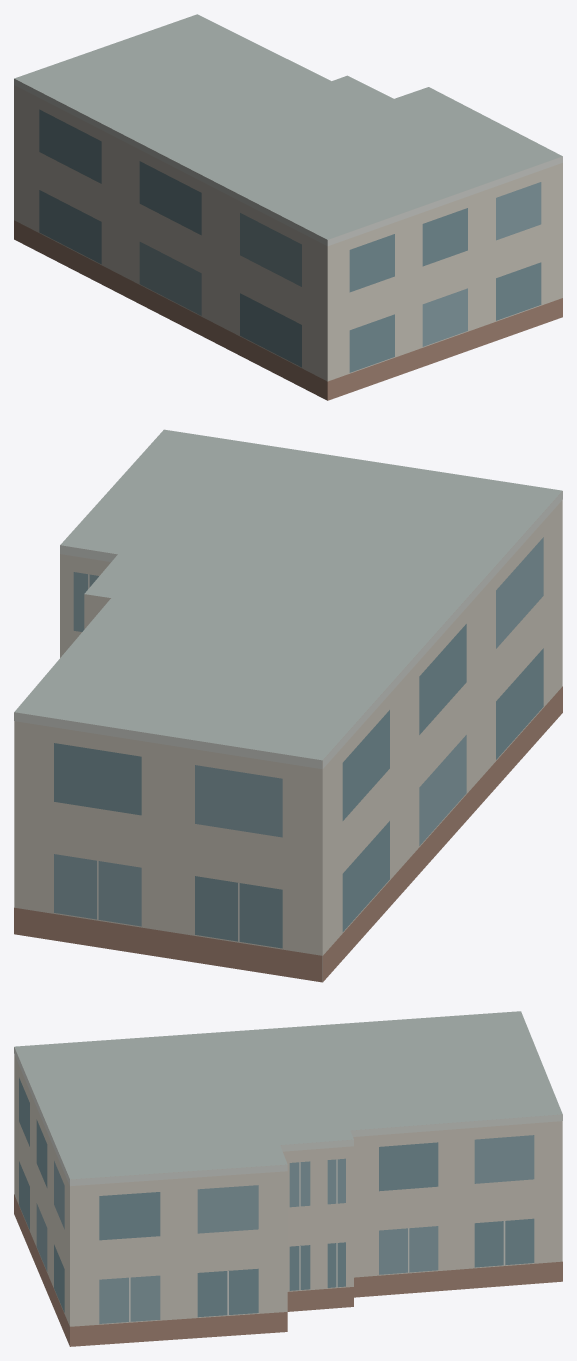
The model's file is survey-upis-32879587.glb.
3 views of the same model, one above another, from view 1: azimuth 30°, elevation 25°; view 2: azimuth 150°, elevation 25°; view 3: azimuth 270°, elevation 25° (orthographic). The views are drawn at different scales.
Parts seen in each view (by area): view 1: survey-upis-32879587.tmp; view 2: survey-upis-32879587.tmp; view 3: survey-upis-32879587.tmp.
Boxes of the visible parts, x1,y1,x2,y2 form: survey-upis-32879587.tmp: (14, 14, 562, 400); survey-upis-32879587.tmp: (14, 429, 562, 982); survey-upis-32879587.tmp: (14, 1011, 562, 1346).
Bounding box in the file's own units: 13.18 × 6.1 × 18.15.
